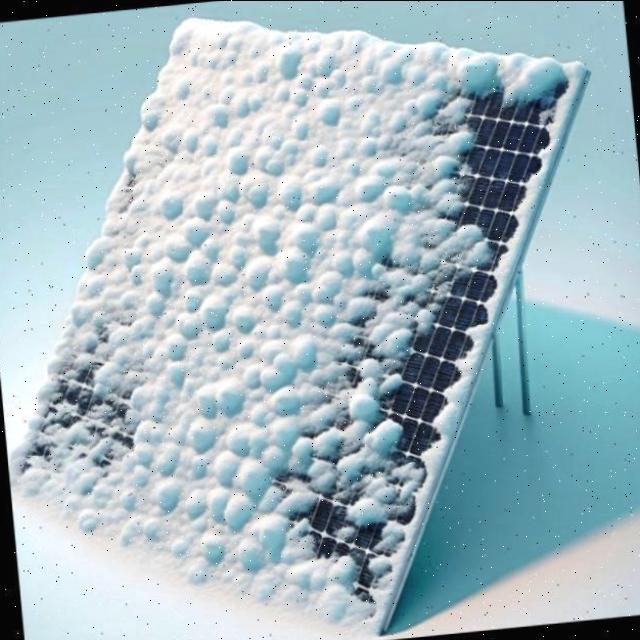Anomaly Solar Panel: (7, 19, 583, 625)
Snow: (8, 20, 579, 624)
